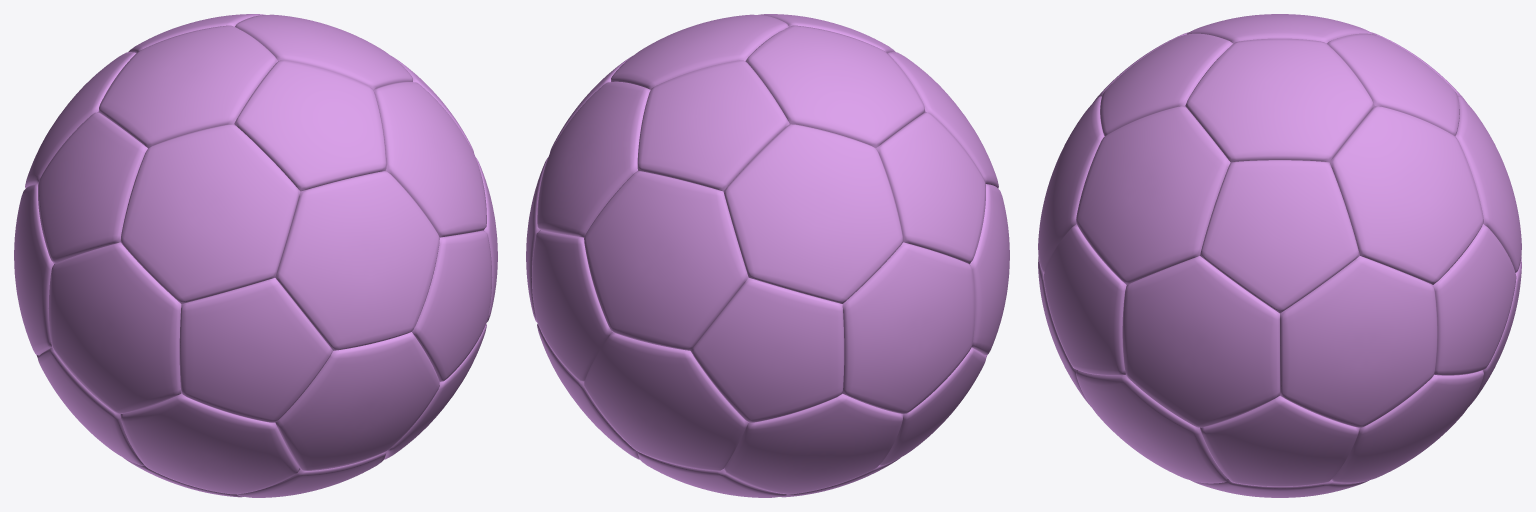
The model's file is soccer1.obj.
The picture shows the model from 3 angles, left to right: view 1: azimuth 30°, elevation 25°; view 2: azimuth 150°, elevation 25°; view 3: azimuth 270°, elevation 25°; orthographic projection.
Parts seen in each view (by area): view 1: Hedra001; view 2: Hedra001; view 3: Hedra001.
Boxes of the visible parts, left/top/right/bottom form: Hedra001: left=14, top=14, right=497, bottom=497; Hedra001: left=526, top=14, right=1009, bottom=497; Hedra001: left=1038, top=14, right=1521, bottom=497.
Size of the model in its own units: 46.13 by 46.13 by 46.13.
